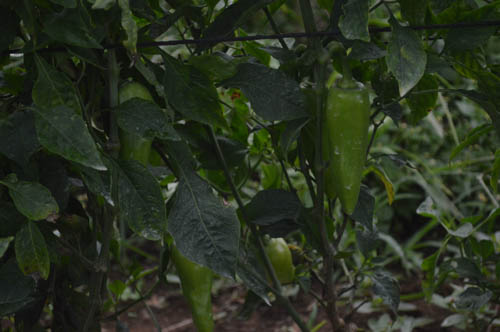ChiliPepper: (323, 75, 364, 215), (166, 235, 223, 332), (112, 77, 158, 167), (260, 234, 304, 282), (259, 151, 287, 193)
